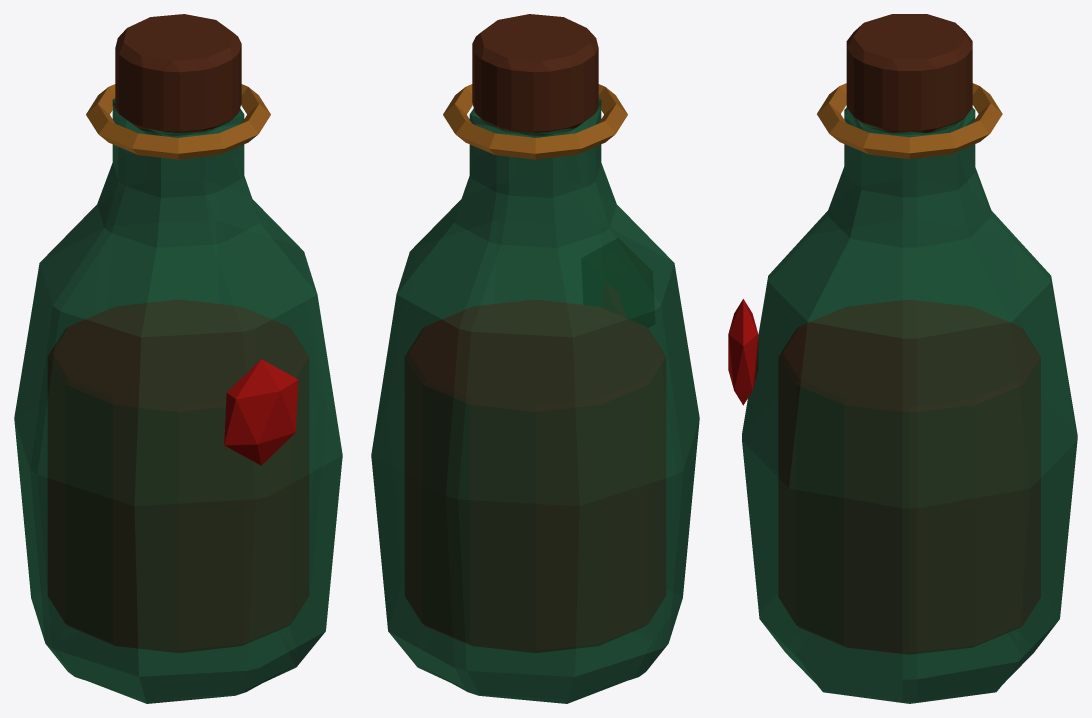
File: bottle_family__angular.obj
3 views of the same model, side by side, from view 1: azimuth 30°, elevation 25°; view 2: azimuth 150°, elevation 25°; view 3: azimuth 270°, elevation 25° (orthographic).
Visible parts, largest first — view 1: BottleFamily_Body.001_MAT_GlassGreen, BottleFamily_Liquid.001_MAT_LiquidRed, BottleFamily_Cork.001_MAT_Wood, BottleFamily_Seal.001_MAT_Ruby, BottleFamily_Collar.001_MAT_OldGold; view 2: BottleFamily_Body.001_MAT_GlassGreen, BottleFamily_Liquid.001_MAT_LiquidRed, BottleFamily_Cork.001_MAT_Wood, BottleFamily_Collar.001_MAT_OldGold; view 3: BottleFamily_Body.001_MAT_GlassGreen, BottleFamily_Liquid.001_MAT_LiquidRed, BottleFamily_Cork.001_MAT_Wood, BottleFamily_Collar.001_MAT_OldGold, BottleFamily_Seal.001_MAT_Ruby.
Boxes of the visible parts, <box> form: BottleFamily_Body.001_MAT_GlassGreen: <box>14,98,342,703</box>; BottleFamily_Liquid.001_MAT_LiquidRed: <box>48,299,308,652</box>; BottleFamily_Cork.001_MAT_Wood: <box>115,14,241,135</box>; BottleFamily_Seal.001_MAT_Ruby: <box>224,359,298,465</box>; BottleFamily_Collar.001_MAT_OldGold: <box>86,84,270,159</box>; BottleFamily_Body.001_MAT_GlassGreen: <box>371,98,699,703</box>; BottleFamily_Liquid.001_MAT_LiquidRed: <box>405,299,665,652</box>; BottleFamily_Cork.001_MAT_Wood: <box>472,14,598,135</box>; BottleFamily_Collar.001_MAT_OldGold: <box>443,84,627,159</box>; BottleFamily_Body.001_MAT_GlassGreen: <box>742,107,1077,703</box>; BottleFamily_Liquid.001_MAT_LiquidRed: <box>778,300,1040,654</box>; BottleFamily_Cork.001_MAT_Wood: <box>846,14,972,134</box>; BottleFamily_Collar.001_MAT_OldGold: <box>817,83,1002,159</box>; BottleFamily_Seal.001_MAT_Ruby: <box>728,299,758,405</box>.
Size of the model in its own units: 1.53 by 3.12 by 1.59.
